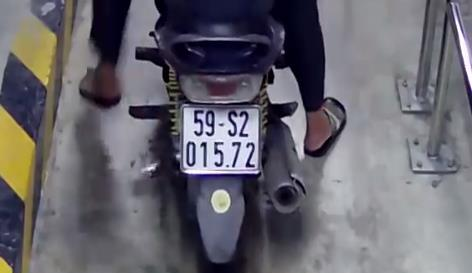lisence: (179, 103, 262, 177)
